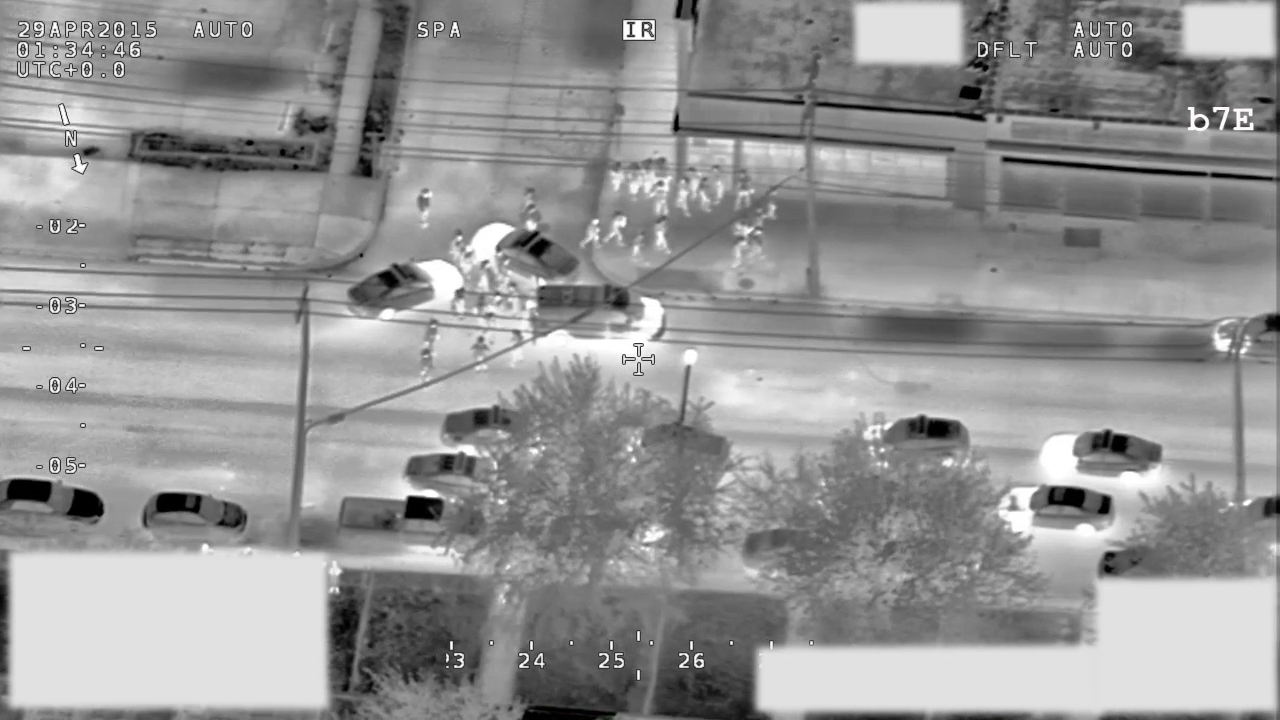vehicle: (526, 274, 667, 351), (331, 495, 495, 554), (1034, 422, 1171, 485), (735, 522, 866, 587), (854, 408, 975, 475), (345, 258, 468, 323), (469, 217, 588, 284), (992, 484, 1126, 533), (625, 421, 736, 480), (1, 474, 109, 529), (139, 487, 249, 541), (399, 451, 521, 497), (438, 403, 544, 447), (1097, 543, 1205, 579), (1210, 314, 1280, 363), (1236, 489, 1280, 548)
